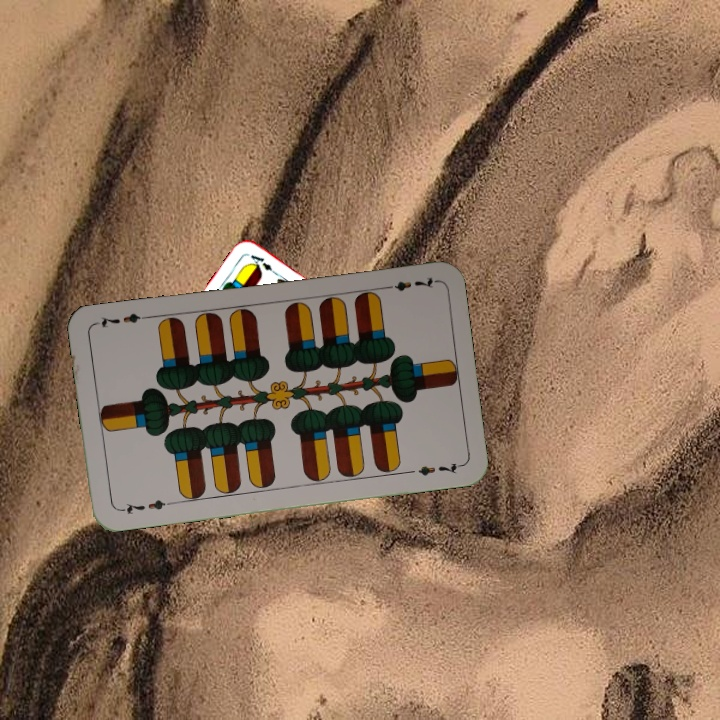E7: (116, 495, 175, 517), (379, 273, 438, 294)
